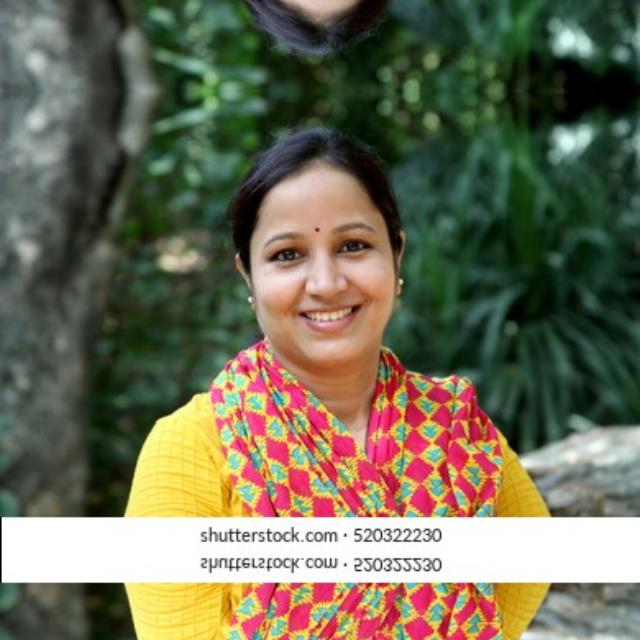person: (138, 114, 558, 524), (138, 0, 558, 65), (138, 575, 558, 640)
